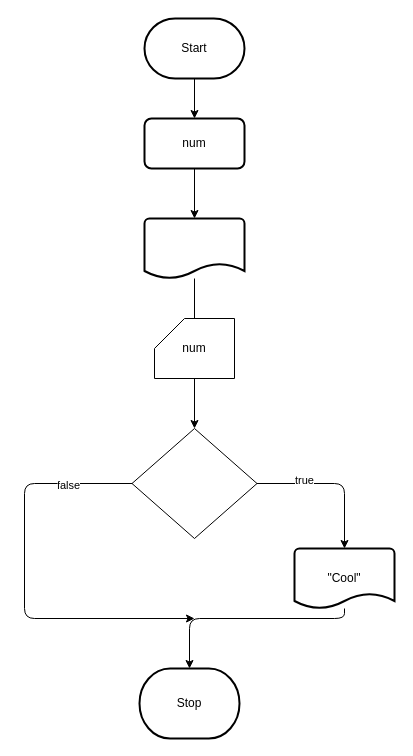
This 413x756 diagram has some shape labels left out. Each missing label, with the centre of its shape:
"Enter a number:": (x=194, y=248)
(num % 10) == 7: (x=194, y=483)
